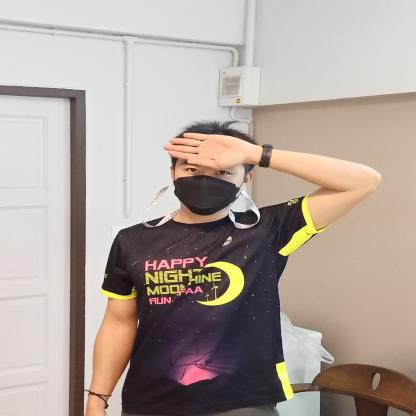Sick: (155, 120, 391, 207)
